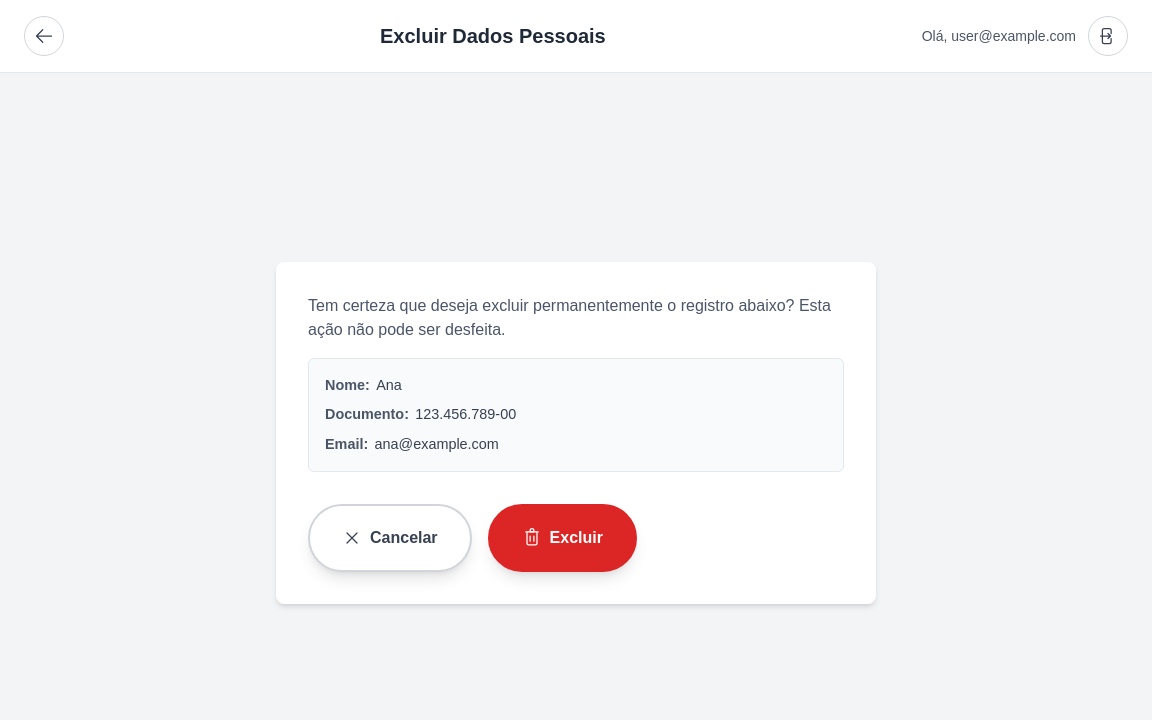
Test: DeletePage › shows an error when deleting the record fails
Click the button "Excluir" at (562, 538), box [488, 504, 637, 572]
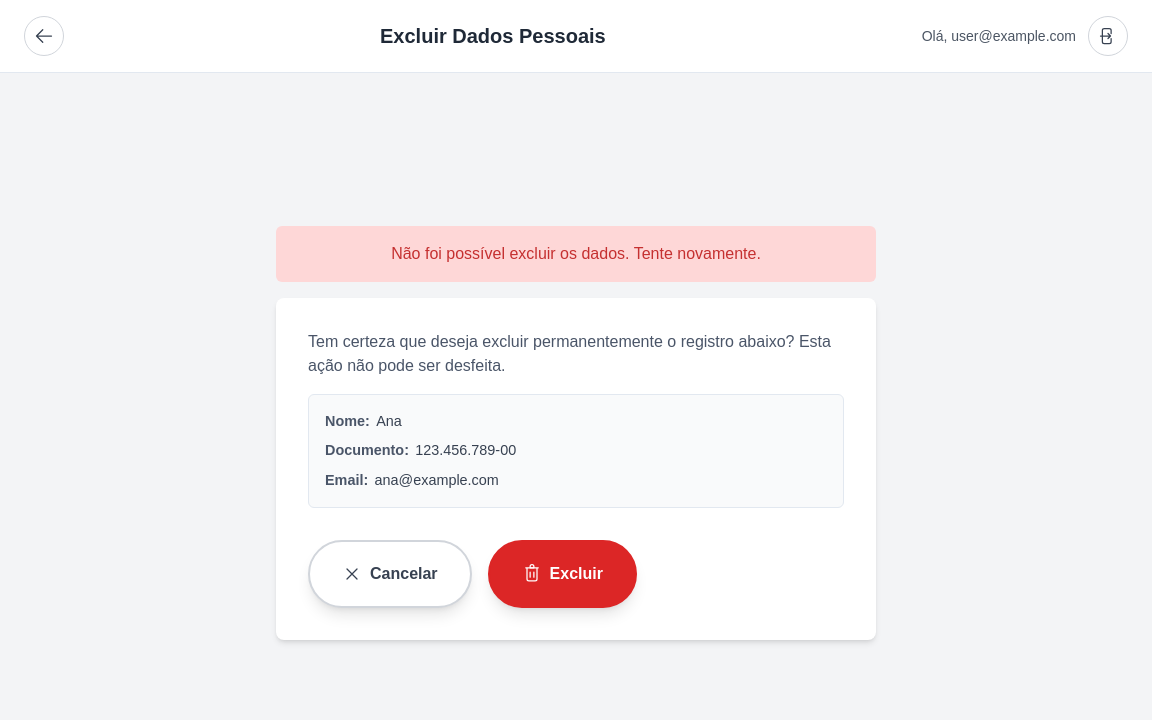
Expected: the text "Não foi possível excluir os dados. Tente novamente." is shown, [276, 226, 876, 282]
